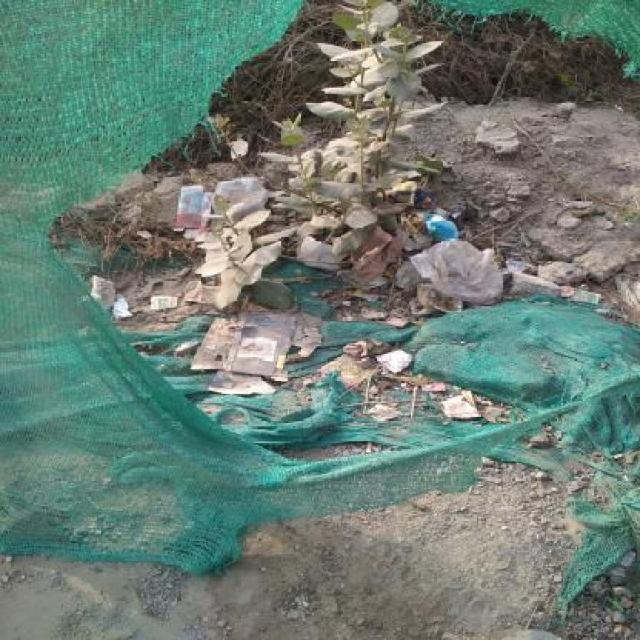garbage: (195, 297, 330, 408), (168, 171, 269, 272), (403, 182, 504, 266), (86, 265, 194, 334), (551, 278, 610, 314)
